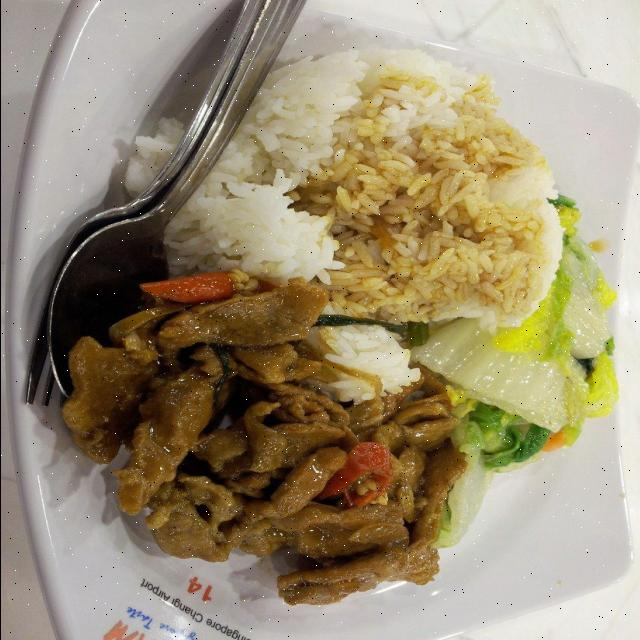Green veg: (411, 194, 617, 547)
Pork: (70, 280, 465, 605)
Rice: (164, 49, 561, 331), (310, 325, 419, 401), (125, 120, 180, 192)
